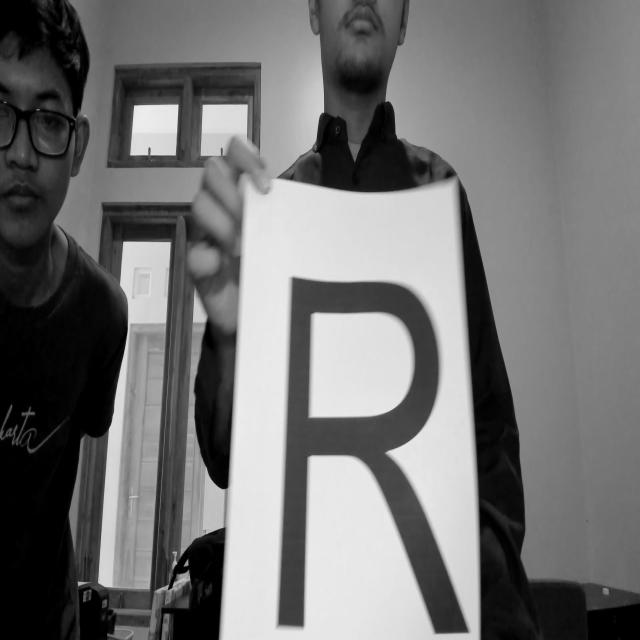r: (264, 259, 515, 640)
